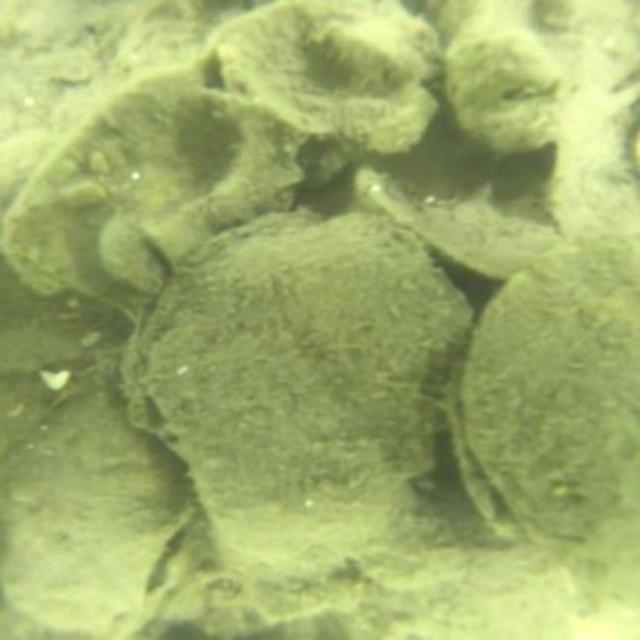Oyster-Closed: (144, 204, 476, 565), (0, 60, 314, 315), (458, 244, 636, 635), (0, 354, 194, 633), (204, 0, 449, 161), (92, 215, 176, 296)
